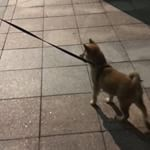puppy: (76, 34, 150, 126)
